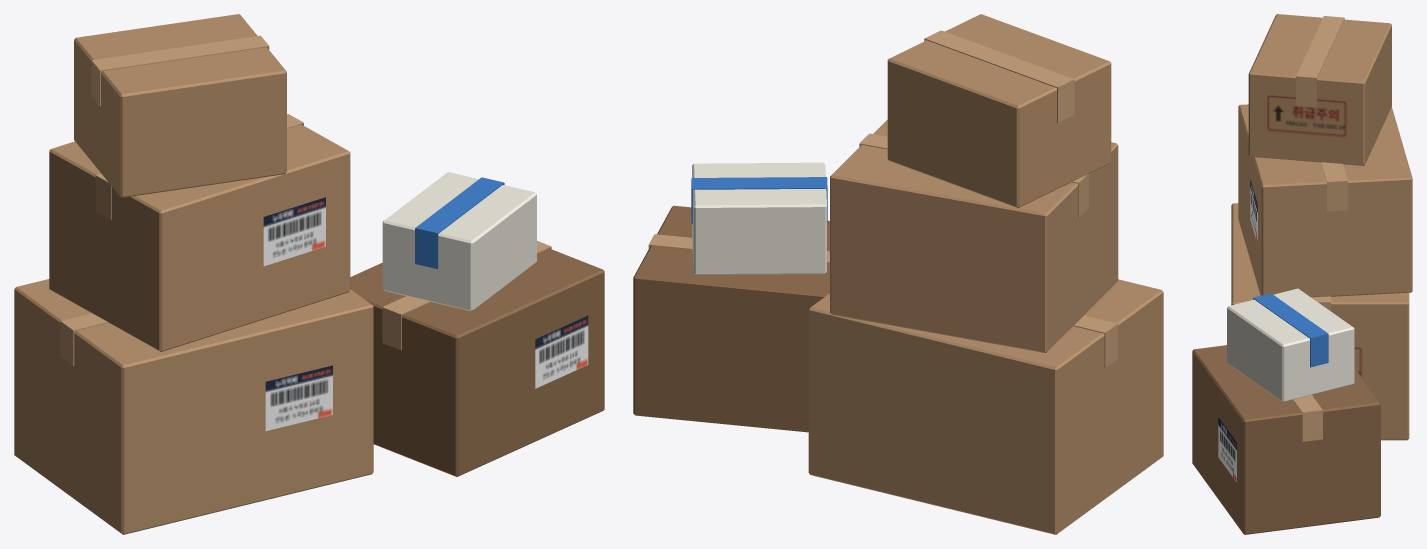
The model's file is SC_Ter_Delivery_Boxes.gltf.
The picture shows the model from 3 angles, left to right: view 1: azimuth 30°, elevation 25°; view 2: azimuth 150°, elevation 25°; view 3: azimuth 270°, elevation 25°; orthographic projection. The views are drawn at different scales.
Visible parts, largest first — view 1: SC_Ter_Delivery_Boxes; view 2: SC_Ter_Delivery_Boxes; view 3: SC_Ter_Delivery_Boxes.
Boxes of the visible parts, left/top/right/bottom form: SC_Ter_Delivery_Boxes: left=14, top=14, right=604, bottom=534; SC_Ter_Delivery_Boxes: left=633, top=14, right=1163, bottom=534; SC_Ter_Delivery_Boxes: left=1192, top=14, right=1412, bottom=534.
Size of the model in its own units: 1.09 by 0.8822 by 0.521.
Materials: 2 (2 with a texture image).
